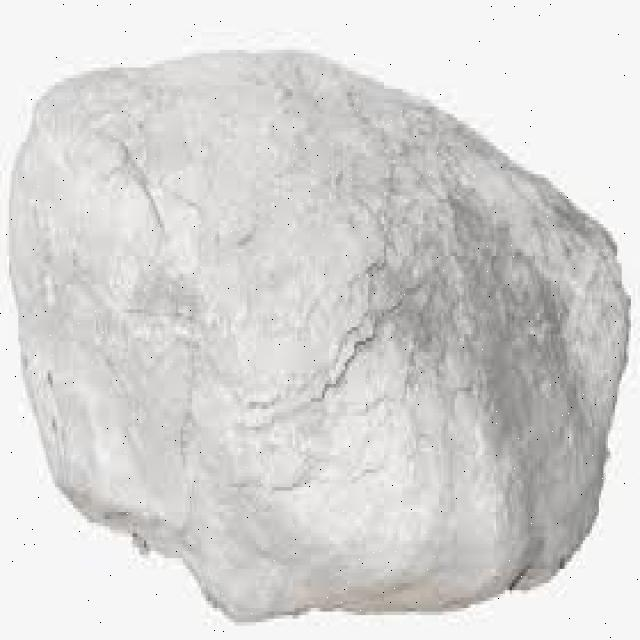Metamorphic: (7, 53, 628, 622)
